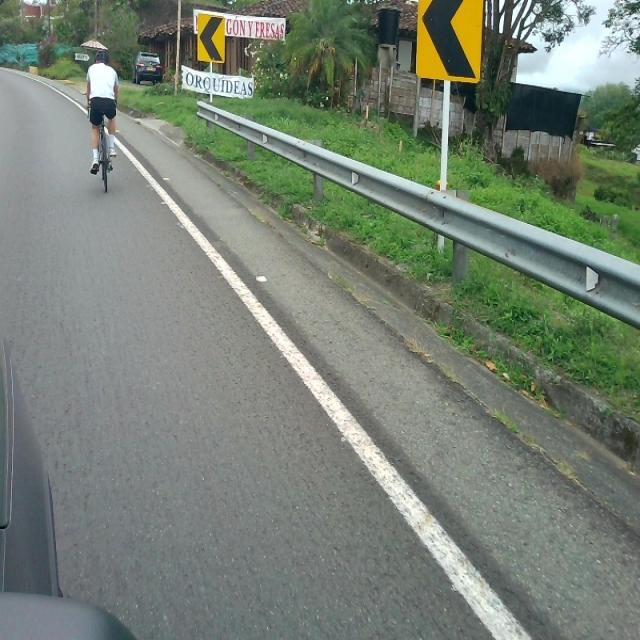DITCH: (1, 65, 638, 638), (60, 56, 638, 638)
